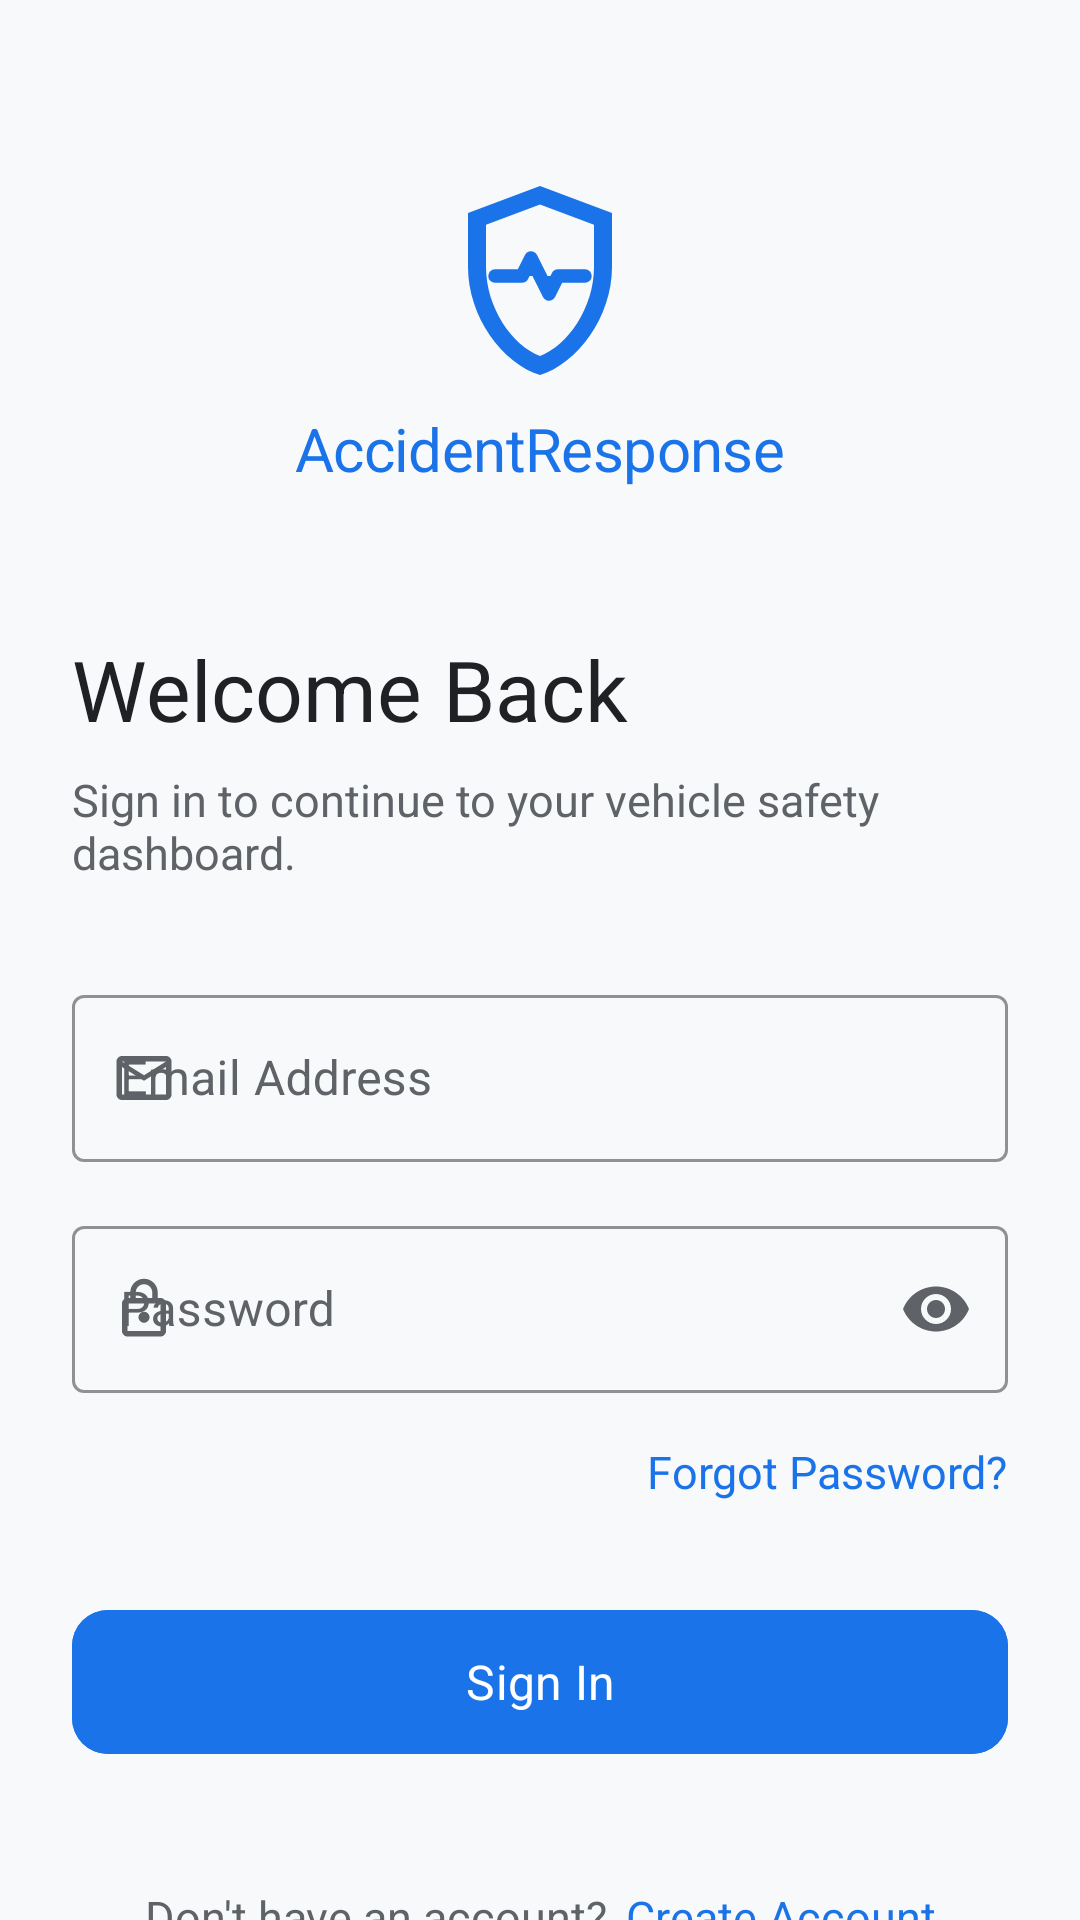

Where to tap for icons on this 1080*1920 app screen, as [x,y]:
Safety Shield Icon: [540,280]
